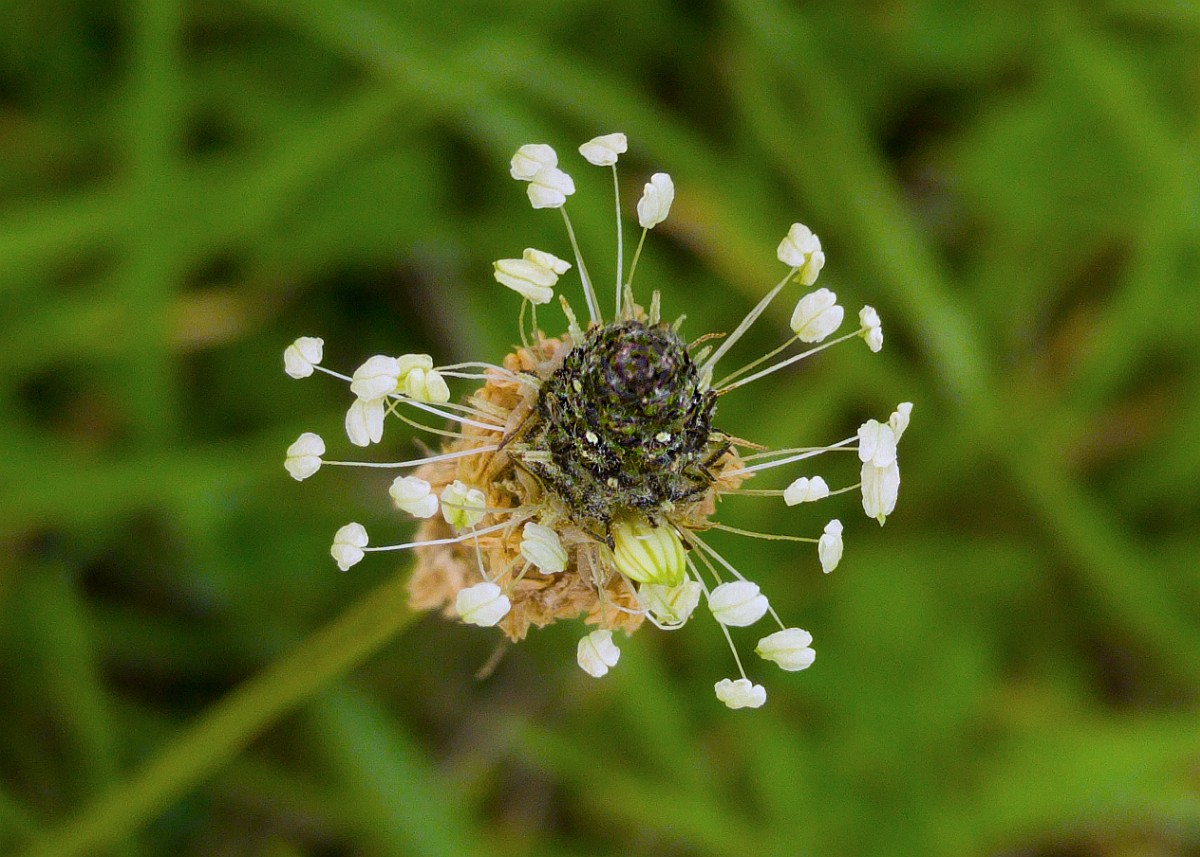buckhorn plantain: (296, 105, 903, 702)
